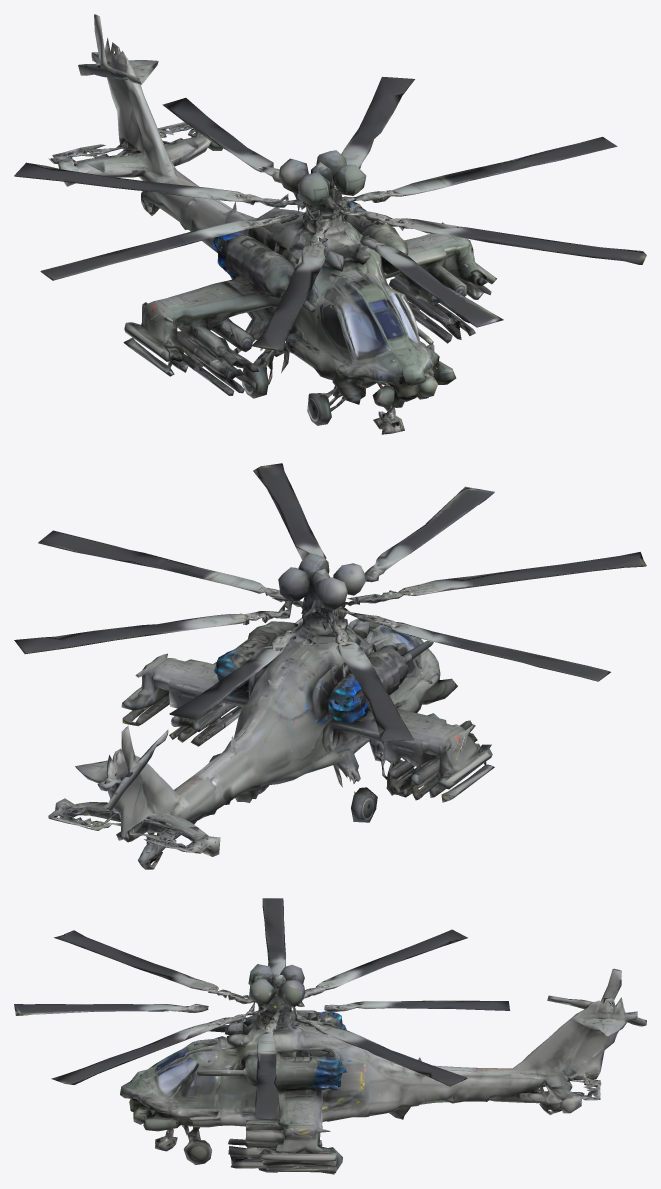
The model's file is Battlehawk_Sentinel_0412095410_texture.glb.
The picture shows the model from 3 angles, top to bottom: view 1: azimuth 30°, elevation 25°; view 2: azimuth 150°, elevation 25°; view 3: azimuth 270°, elevation 25°; orthographic projection. The views are drawn at different scales.
Size of the model in its own units: 1.64 by 0.6137 by 1.99.
1 material, 1 textured.
